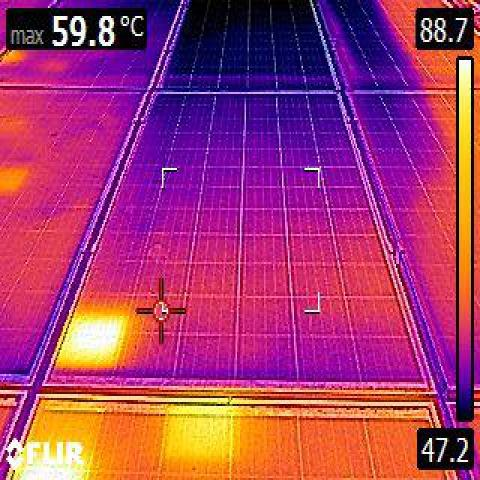fault: (172, 406, 236, 456), (63, 320, 124, 369)
